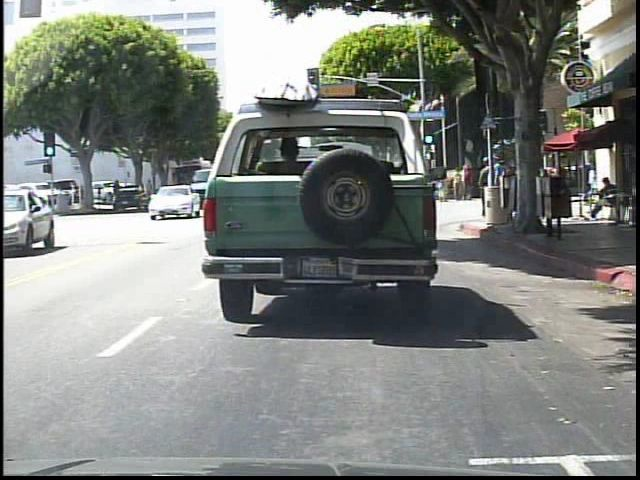person: (588, 173, 622, 220), (491, 155, 508, 219), (478, 157, 494, 217), (493, 159, 509, 216), (535, 163, 549, 206), (460, 162, 475, 202), (525, 166, 537, 206), (586, 162, 597, 200), (438, 168, 449, 203), (454, 167, 465, 201), (428, 175, 439, 204)
